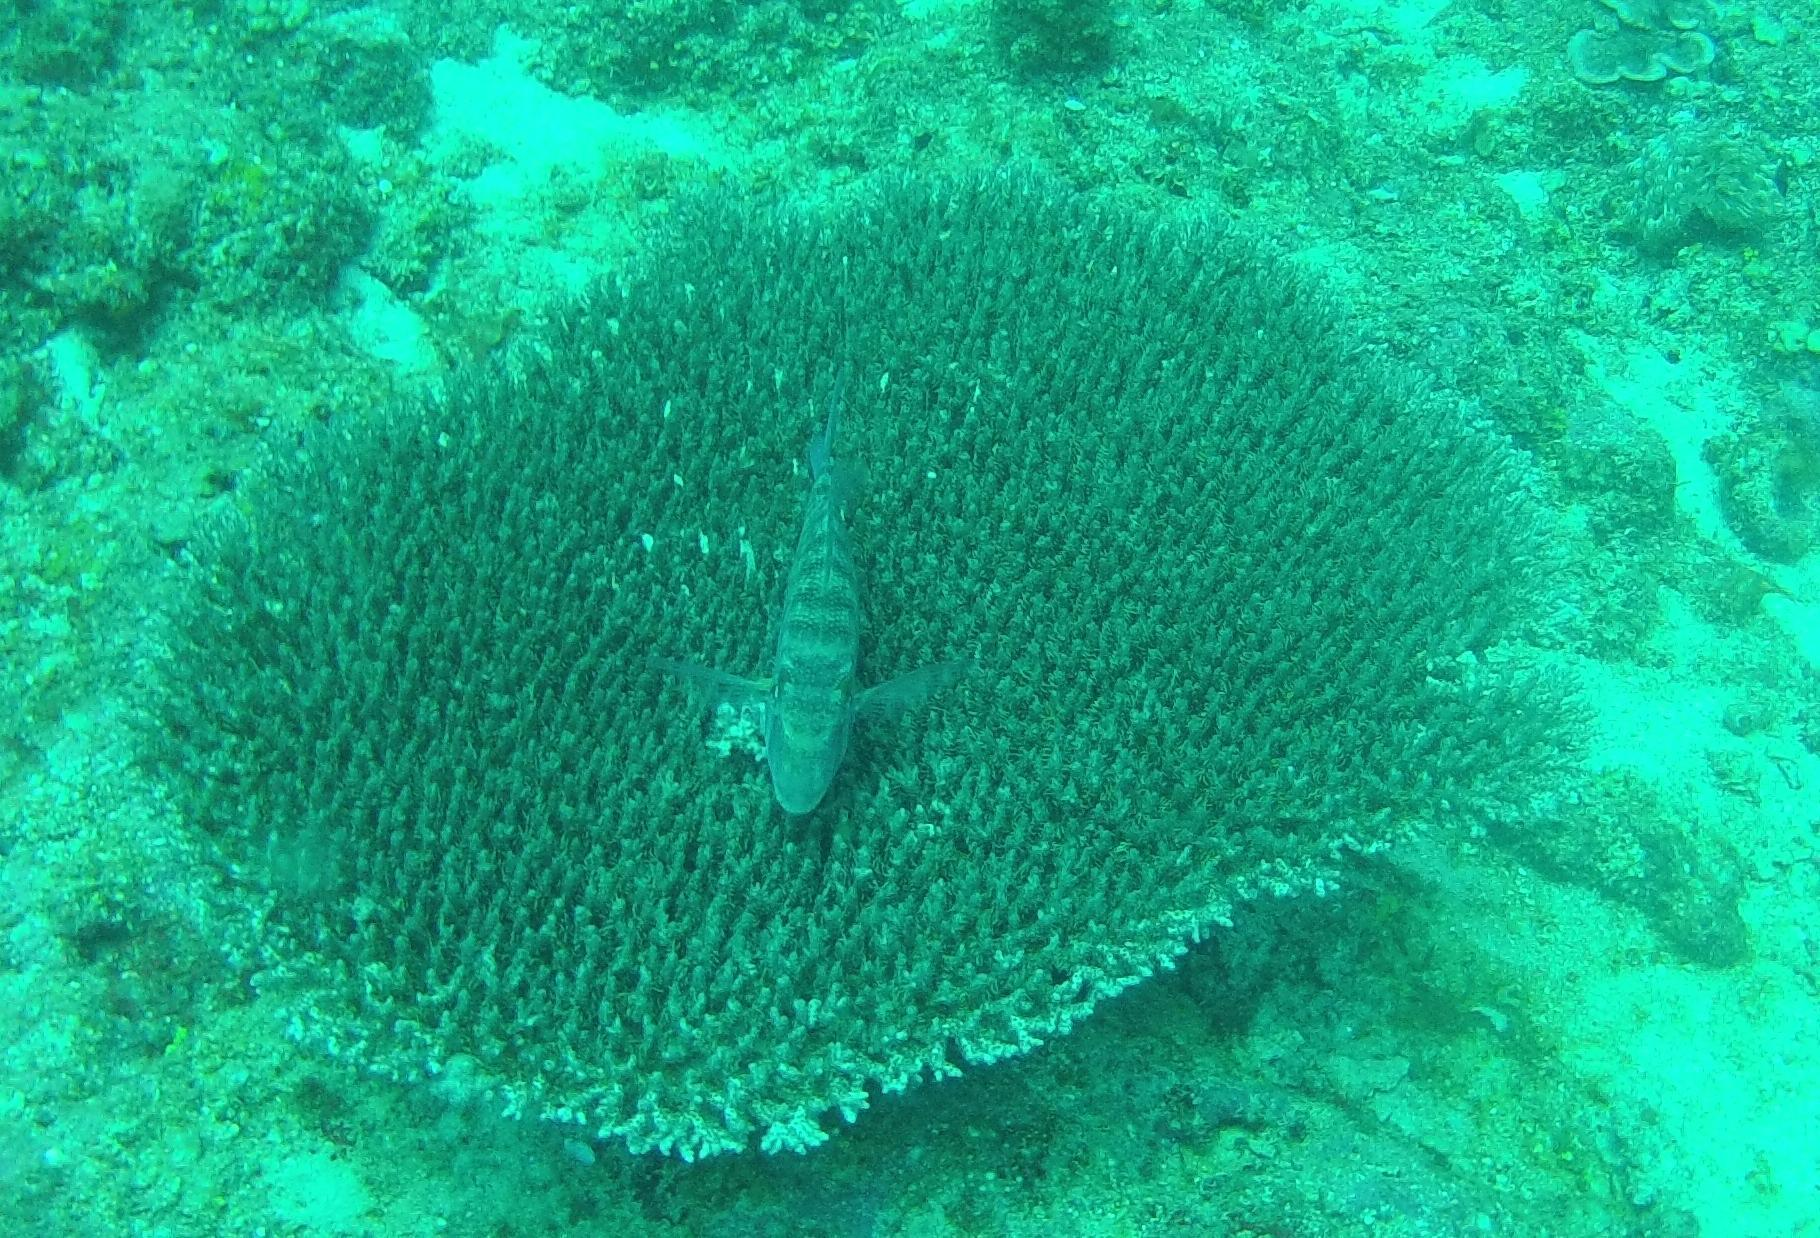Fish: (685, 432, 977, 814)
